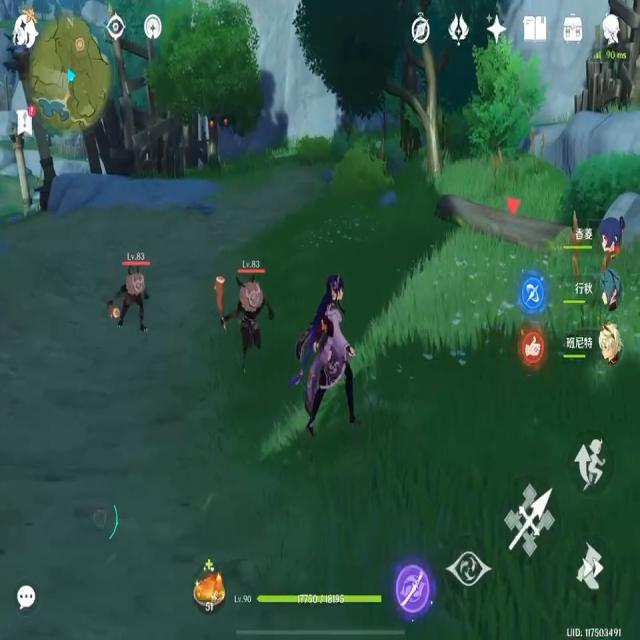genshin-hilichurls: (216, 272, 269, 357), (111, 265, 160, 341)
